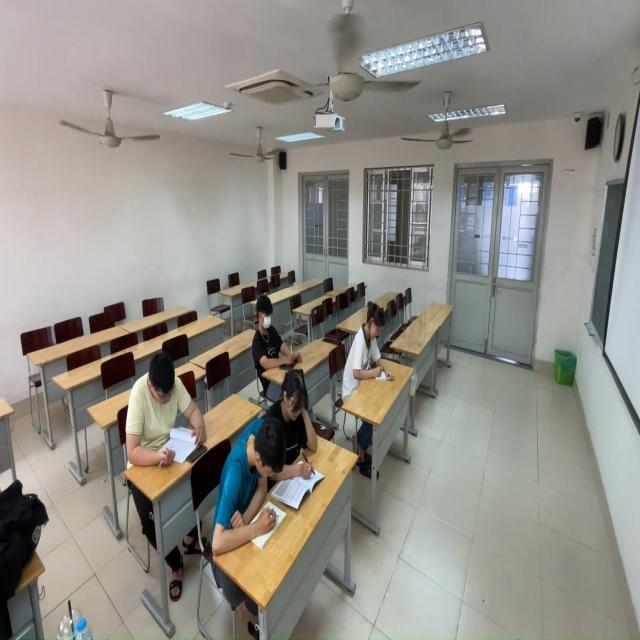read: (210, 412, 287, 555), (120, 346, 205, 472), (259, 370, 329, 493), (341, 295, 405, 402), (248, 295, 301, 374)
